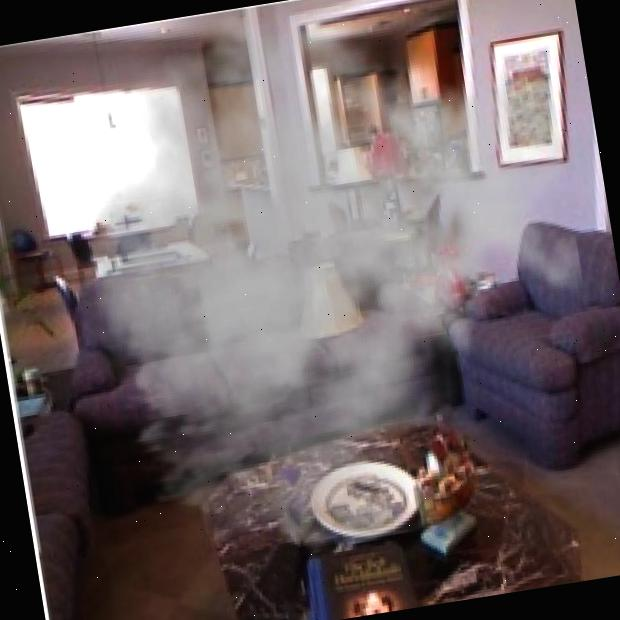smoke: (132, 150, 422, 450)
